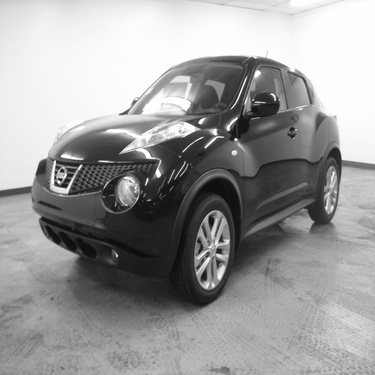car: (32, 49, 345, 310)
